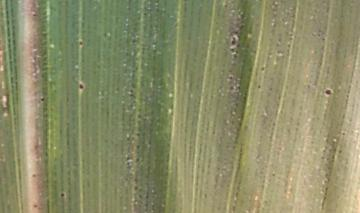tarspot: (228, 34, 237, 49), (75, 82, 86, 93), (55, 191, 67, 201), (322, 87, 332, 98), (253, 83, 262, 93), (39, 94, 47, 104), (76, 38, 84, 48), (259, 65, 266, 75)
